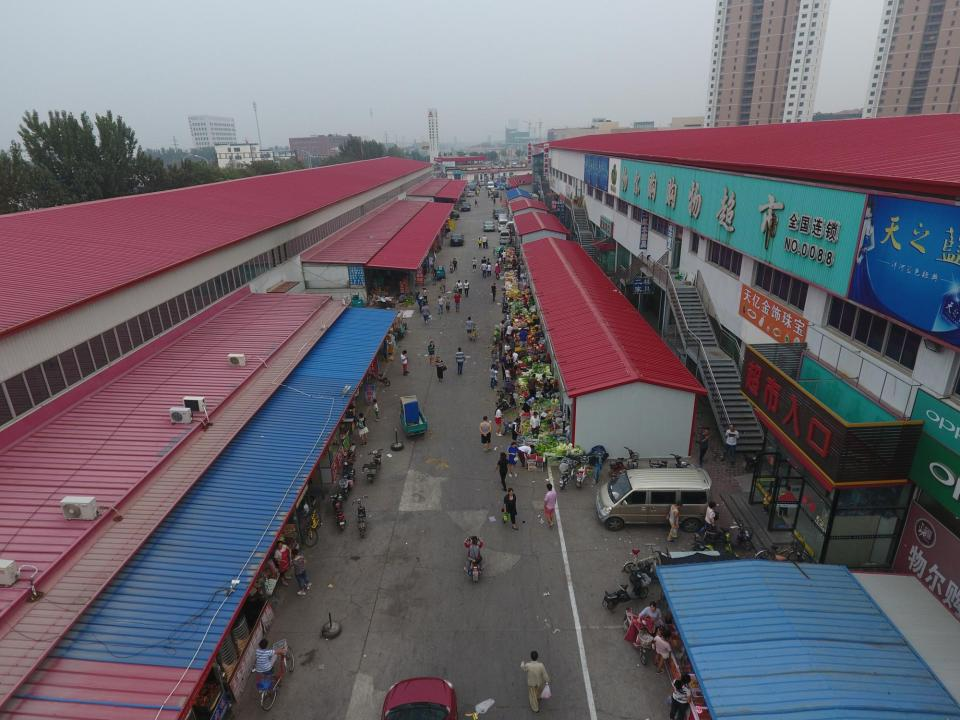car: (380, 675, 460, 720), (450, 233, 465, 246), (440, 211, 459, 220), (482, 221, 495, 231), (497, 220, 508, 231), (492, 209, 504, 219), (461, 202, 471, 211)
van: (596, 465, 712, 534), (499, 229, 512, 245), (498, 213, 508, 224)
